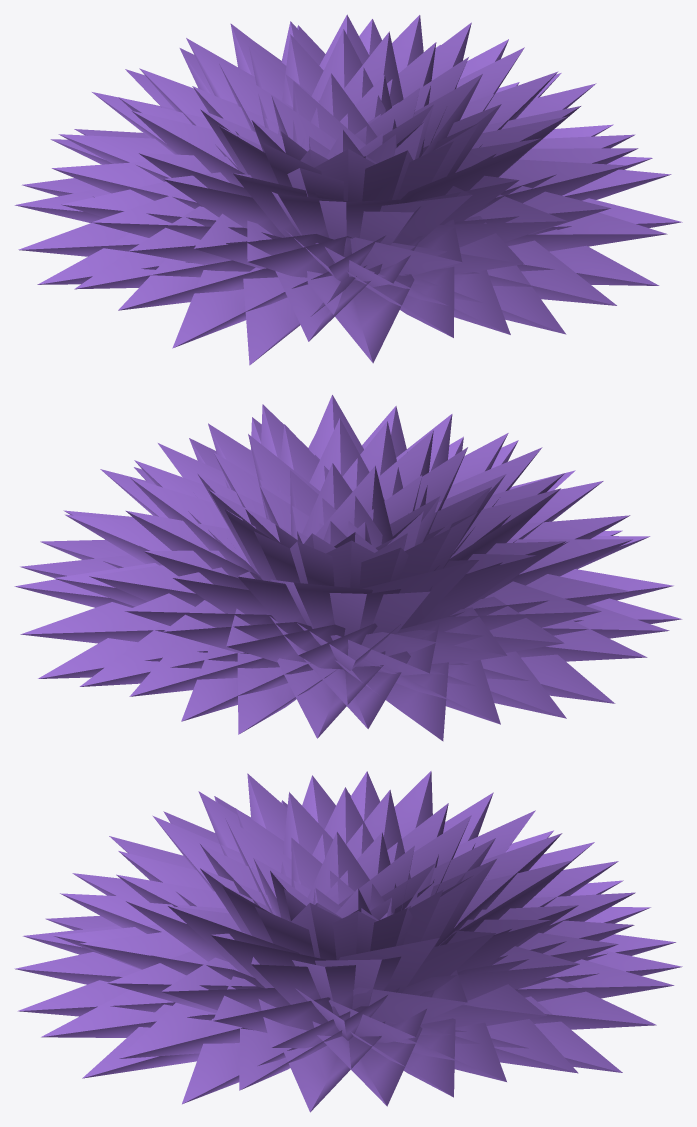
File: chrysanthemum.glb
3 views of the same model, one above another, from view 1: azimuth 30°, elevation 25°; view 2: azimuth 150°, elevation 25°; view 3: azimuth 270°, elevation 25° (orthographic).
Visible parts, largest first — view 1: chrysanthemum; view 2: chrysanthemum; view 3: chrysanthemum.
Boxes of the visible parts, box(x1,y1,x2,y2) form: chrysanthemum: box(14, 14, 682, 365); chrysanthemum: box(14, 395, 682, 741); chrysanthemum: box(14, 771, 682, 1112).
Size of the model in its own units: 0.1099 by 0.0328 by 0.1099.
